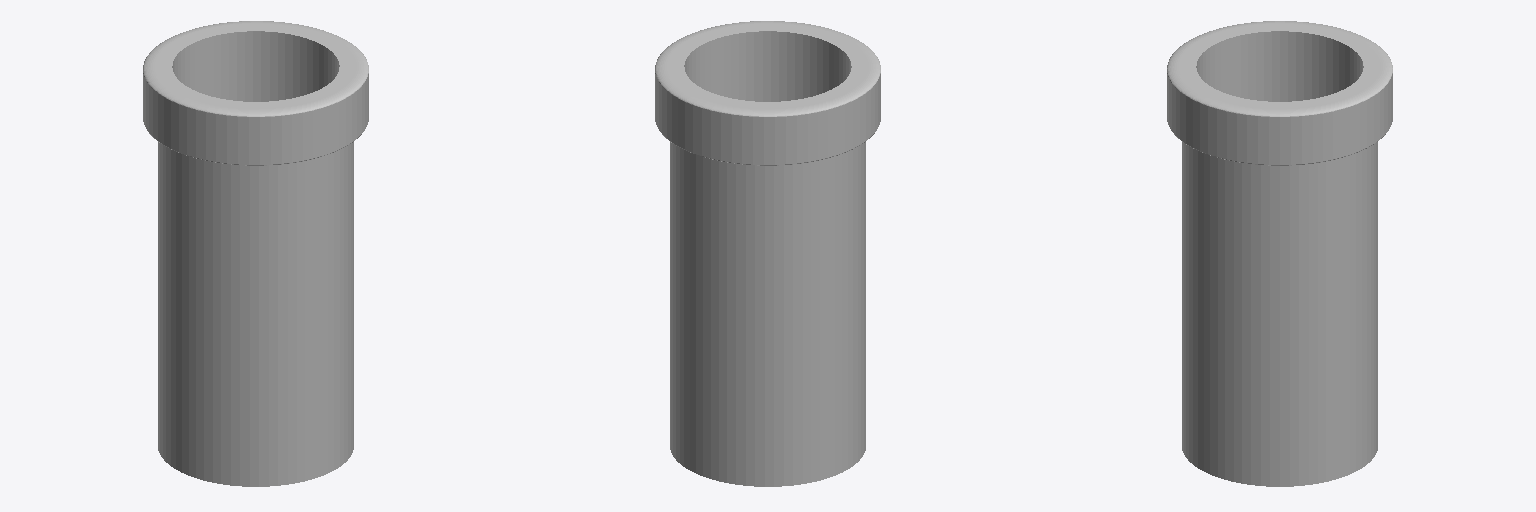
File: warp pipe (long).obj
The picture shows the model from 3 angles: view 1: azimuth 30°, elevation 25°; view 2: azimuth 150°, elevation 25°; view 3: azimuth 270°, elevation 25°; orthographic projection.
Visible parts, largest first — view 1: obj_0; view 2: obj_0; view 3: obj_0.
Part boxes in pixels (bbox=[...]): obj_0: bbox=[143, 21, 368, 486]; obj_0: bbox=[655, 21, 880, 486]; obj_0: bbox=[1167, 21, 1392, 486].
Bounding box in the file's own units: 46 × 85 × 46.